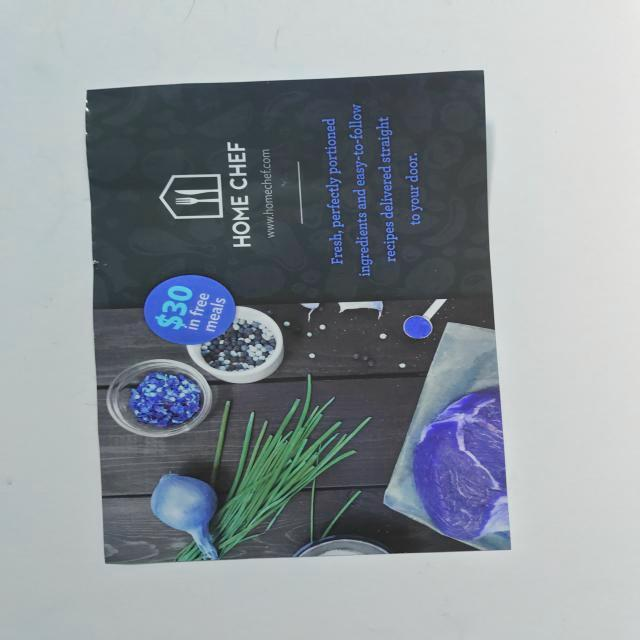paper: (81, 67, 516, 565)
